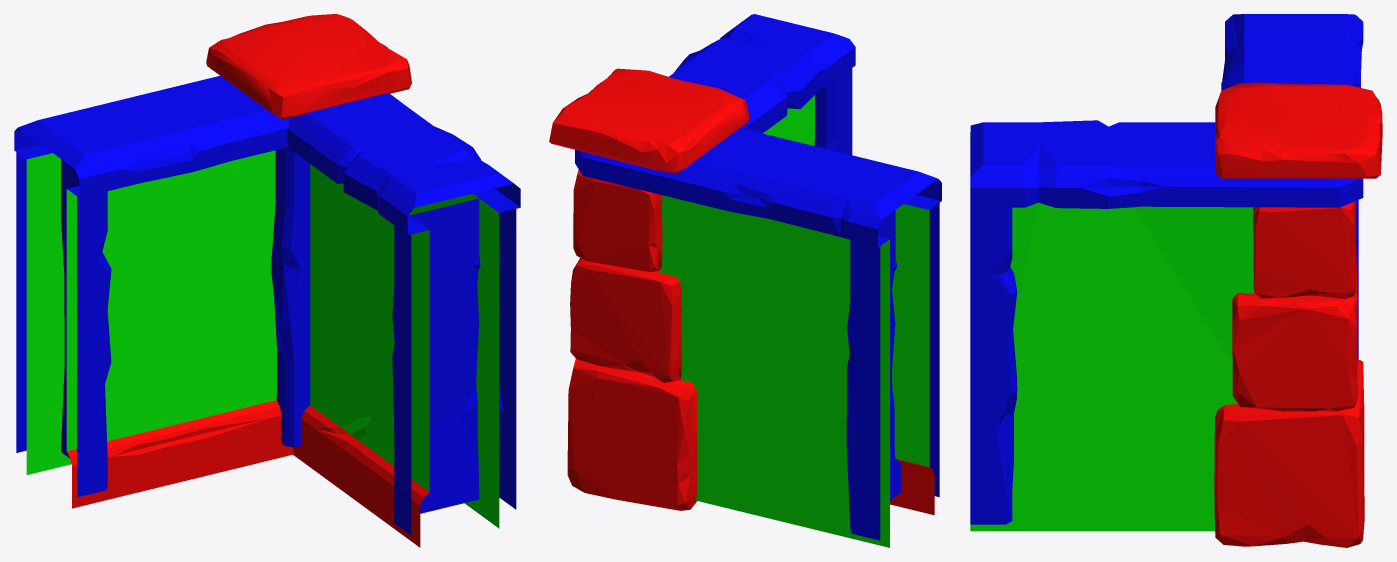
File: dungeon_wall_corner.fbx
The picture shows the model from 3 angles, left to right: view 1: azimuth 30°, elevation 25°; view 2: azimuth 150°, elevation 25°; view 3: azimuth 270°, elevation 25°; orthographic projection. The views are drawn at different scales.
Parts seen in each view (by area): view 1: dungeon_wall_corner; view 2: dungeon_wall_corner; view 3: dungeon_wall_corner.
Part boxes in pixels (x1=…): dungeon_wall_corner: x1=14, y1=14, x2=520, y2=547; dungeon_wall_corner: x1=549, y1=14, x2=941, y2=547; dungeon_wall_corner: x1=970, y1=14, x2=1382, y2=547.
Bounding box in the file's own units: 126 × 127 × 138.
